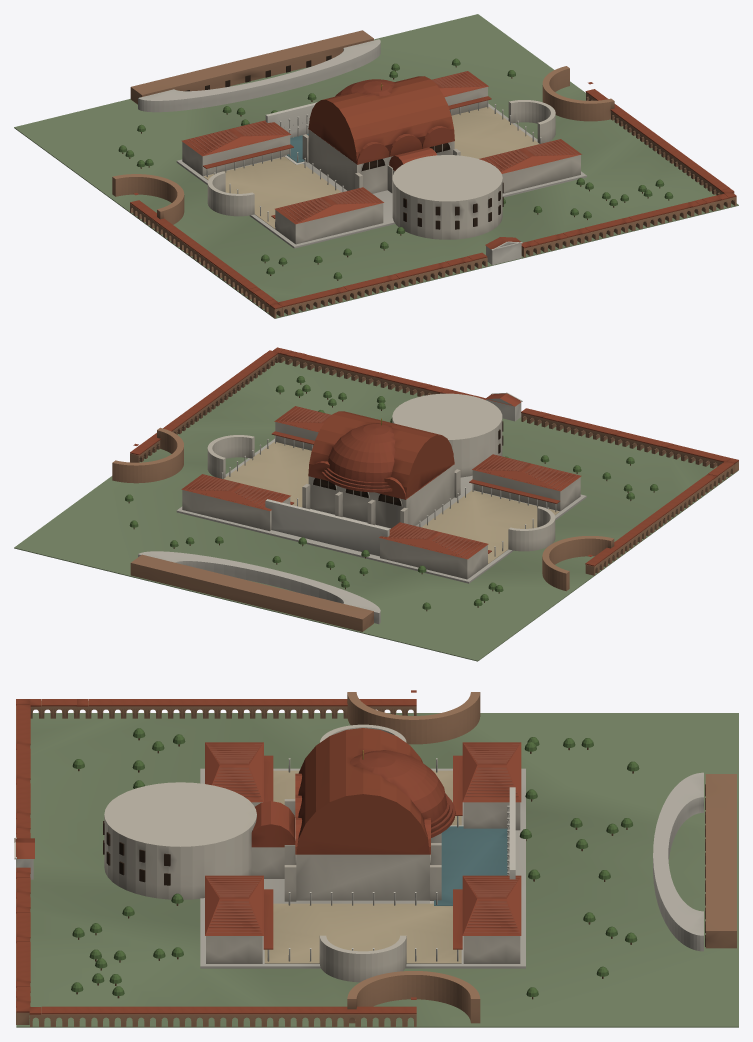
Rendered from baths-of-diocletian-church.glb.
3 renders of one model, top to bottom at view 1: azimuth 30°, elevation 25°; view 2: azimuth 150°, elevation 25°; view 3: azimuth 270°, elevation 25°, orthographic. The views are drawn at different scales.
Visible parts, largest first — view 1: p0_precinct, p1_halls, p2_domes; view 2: p0_precinct, p1_halls, p2_domes; view 3: p0_precinct, p1_halls, p2_domes.
Part boxes in pixels (left/top/right/bottom): p0_precinct: left=14, top=14, right=738, bottom=318; p1_halls: left=118, top=39, right=673, bottom=280; p2_domes: left=133, top=71, right=593, bottom=250; p0_precinct: left=14, top=347, right=738, bottom=661; p1_halls: left=125, top=376, right=658, bottom=624; p2_domes: left=133, top=392, right=592, bottom=559; p0_precinct: left=16, top=692, right=738, bottom=1027; p1_halls: left=71, top=724, right=703, bottom=999; p2_domes: left=14, top=690, right=521, bottom=999.
Size of the model in its own units: 380 by 68.19 by 371.
